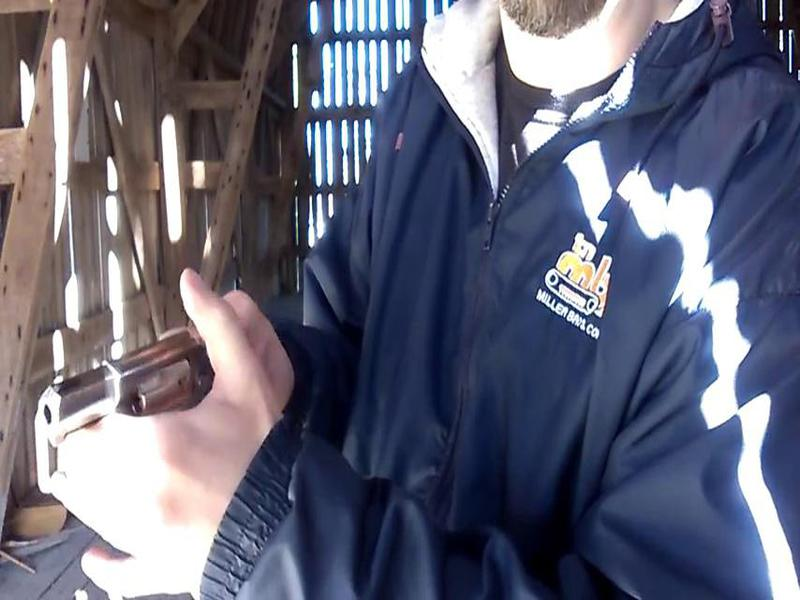Revolver: (31, 323, 228, 452)
